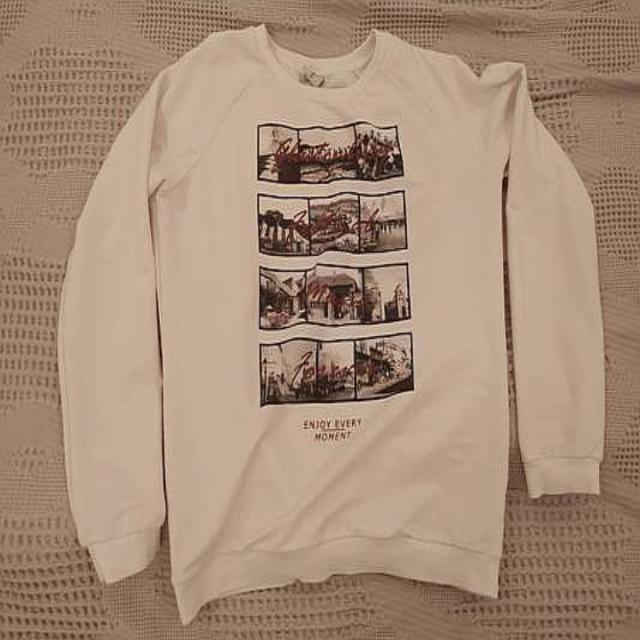T_SHIRT: (43, 16, 622, 640)
